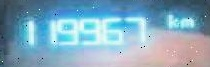1: (23, 15, 37, 50), (45, 13, 55, 47)
6: (98, 13, 122, 46)
7: (123, 12, 147, 42)
9: (77, 13, 98, 46), (55, 16, 77, 46)
X: (179, 14, 195, 27), (165, 11, 177, 28)
